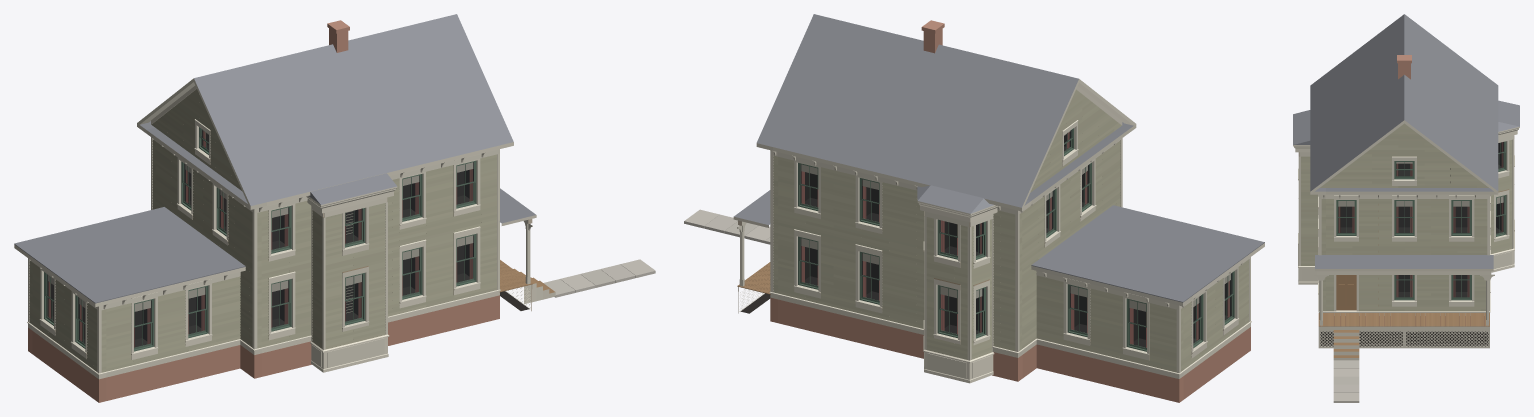
The model's file is house_2125_prairie__as_mapped_1904.glb.
3 renders of one model, left to right at view 1: azimuth 30°, elevation 25°; view 2: azimuth 150°, elevation 25°; view 3: azimuth 270°, elevation 25°, orthographic. The views are drawn at different scales.
Parts seen in each view (by area): view 1: house_2125_prairie__as_mapped_1904; view 2: house_2125_prairie__as_mapped_1904; view 3: house_2125_prairie__as_mapped_1904.
Boxes of the visible parts, x1,y1,x2,y2 form: house_2125_prairie__as_mapped_1904: (14,14,655,402); house_2125_prairie__as_mapped_1904: (684,14,1264,402); house_2125_prairie__as_mapped_1904: (1293,14,1519,402).
Size of the model in its own units: 24.85 by 12.02 by 10.54.
